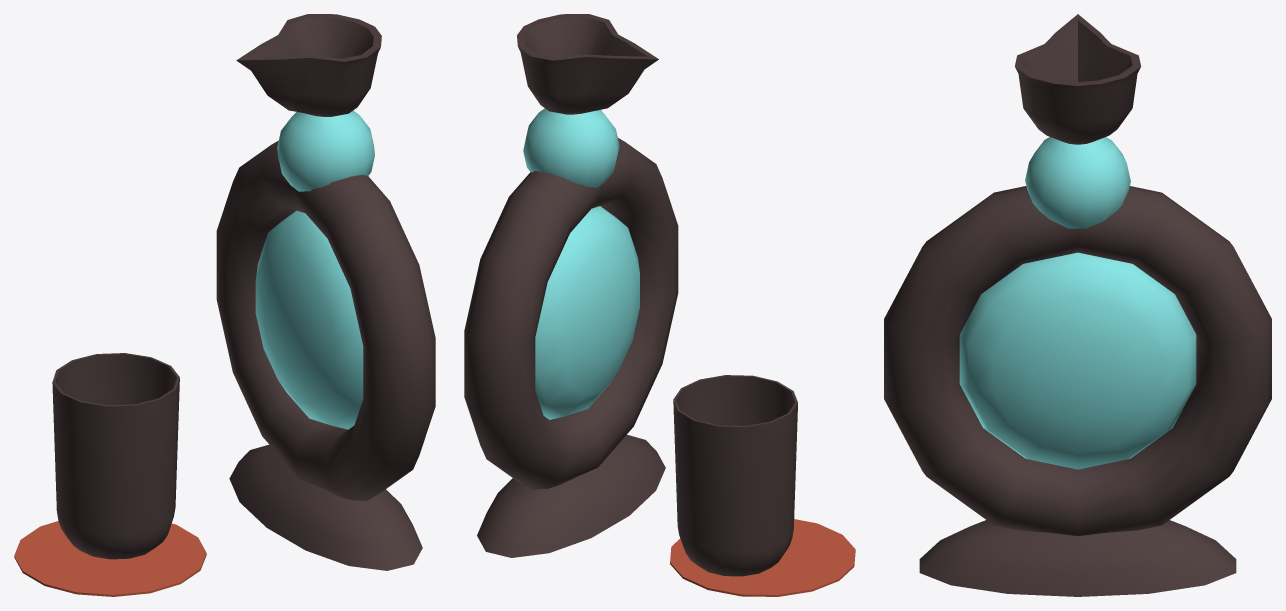
The model's file is FI_053_liquor_bottle_and_mug.glb.
The picture shows the model from 3 angles, left to right: view 1: azimuth 30°, elevation 25°; view 2: azimuth 150°, elevation 25°; view 3: azimuth 270°, elevation 25°; orthographic projection. The views are drawn at different scales.
Visible parts, largest first — view 1: liquor_bottle, empty_mug; view 2: liquor_bottle, empty_mug; view 3: liquor_bottle.
Part boxes in pixels (box(x1,y1,x2,y2)): liquor_bottle: box(216, 14, 435, 570); empty_mug: box(14, 353, 206, 596); liquor_bottle: box(464, 14, 678, 557); empty_mug: box(670, 375, 855, 596); liquor_bottle: box(884, 14, 1271, 596).
Bounding box in the file's own units: 0.5743 × 0.7483 × 0.5206.
